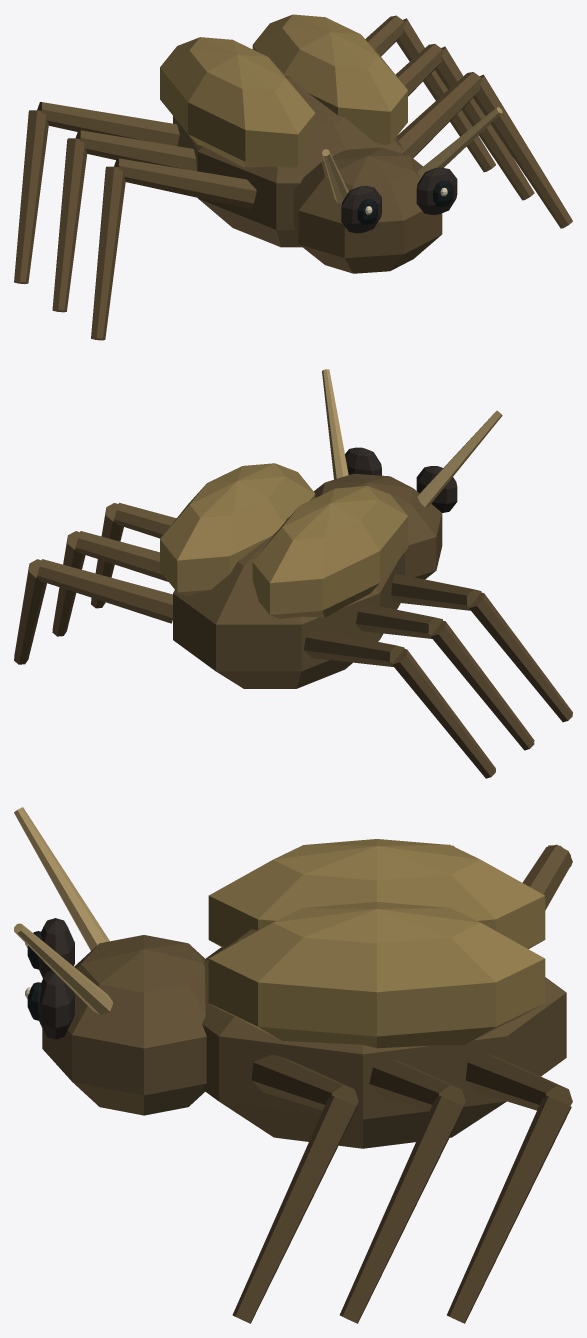
The model's file is fauna-orebeetle.glb.
3 views of the same model, one above another, from view 1: azimuth 30°, elevation 25°; view 2: azimuth 150°, elevation 25°; view 3: azimuth 270°, elevation 25° (orthographic). The views are drawn at different scales.
Visible parts, largest first — view 1: Fauna_orebeetle; view 2: Fauna_orebeetle; view 3: Fauna_orebeetle.
Boxes of the visible parts, <box> form: Fauna_orebeetle: <box>14,14,572,340</box>; Fauna_orebeetle: <box>14,369,572,778</box>; Fauna_orebeetle: <box>14,807,572,1323</box>.
Size of the model in its own units: 1.66 by 0.7096 by 1.2.
